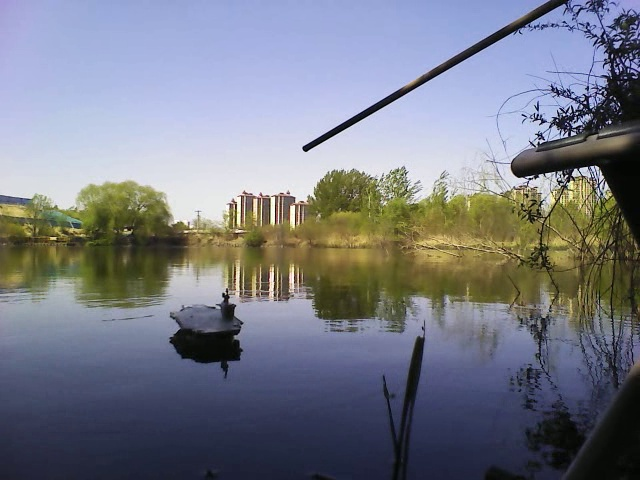aircraft_carrier: (170, 286, 244, 344)
